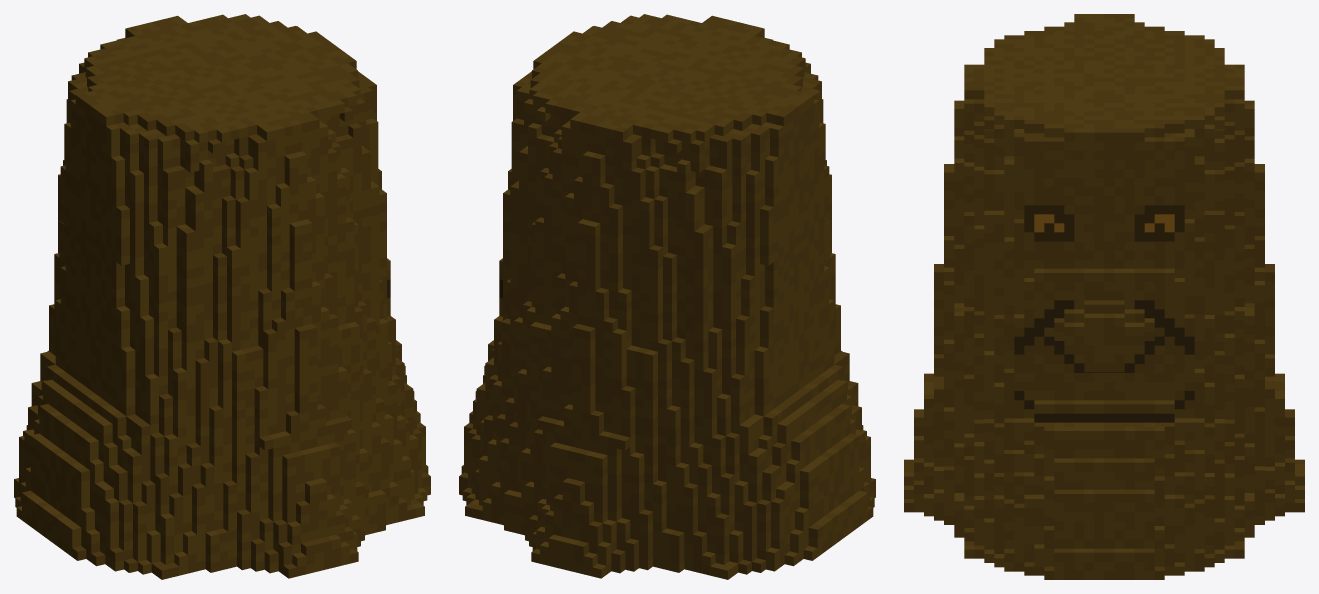
Rendered from start_end-46.obj.
The picture shows the model from 3 angles, left to right: view 1: azimuth 30°, elevation 25°; view 2: azimuth 150°, elevation 25°; view 3: azimuth 270°, elevation 25°; orthographic projection.
Bounding box in the file's own units: 4 × 4.6 × 4.
Materials: 1 (1 with a texture image).
